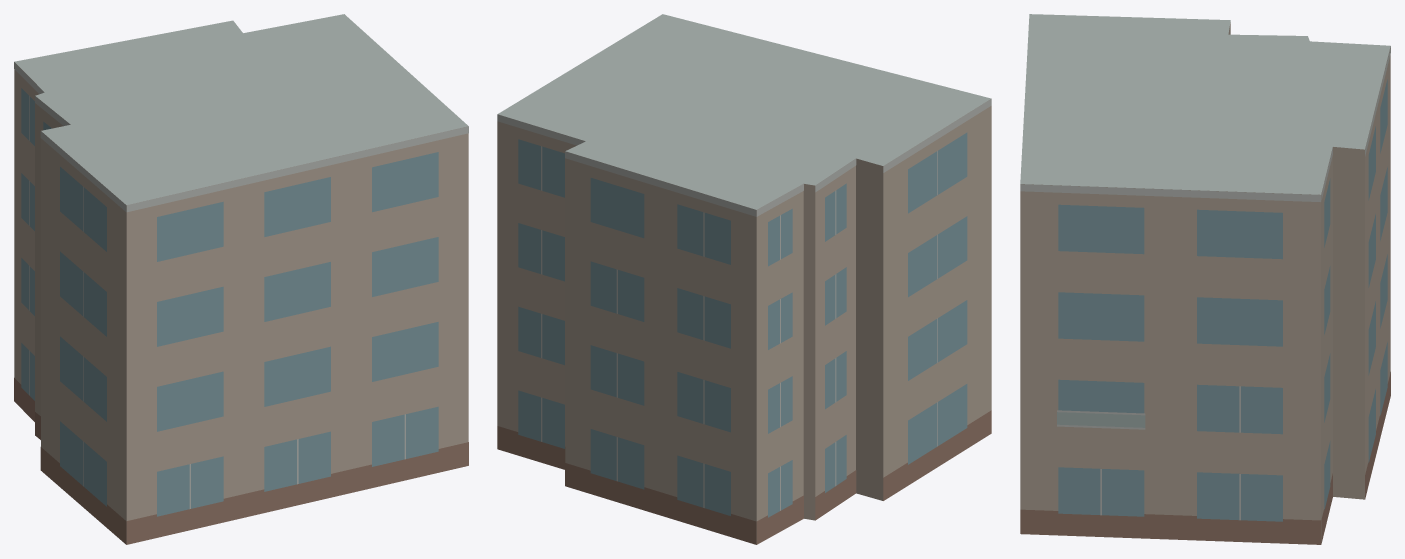
File: survey-upis-32511985.glb
3 renders of one model, left to right at view 1: azimuth 30°, elevation 25°; view 2: azimuth 150°, elevation 25°; view 3: azimuth 270°, elevation 25°, orthographic. The views are drawn at different scales.
Visible parts, largest first — view 1: survey-upis-32511985.tmp; view 2: survey-upis-32511985.tmp; view 3: survey-upis-32511985.tmp.
Part boxes in pixels (box(x1,y1,x2,y2)): survey-upis-32511985.tmp: box(14, 14, 468, 544); survey-upis-32511985.tmp: box(497, 14, 991, 544); survey-upis-32511985.tmp: box(1020, 14, 1390, 544).
Bounding box in the file's own units: 12.86 × 11.6 × 11.14.
